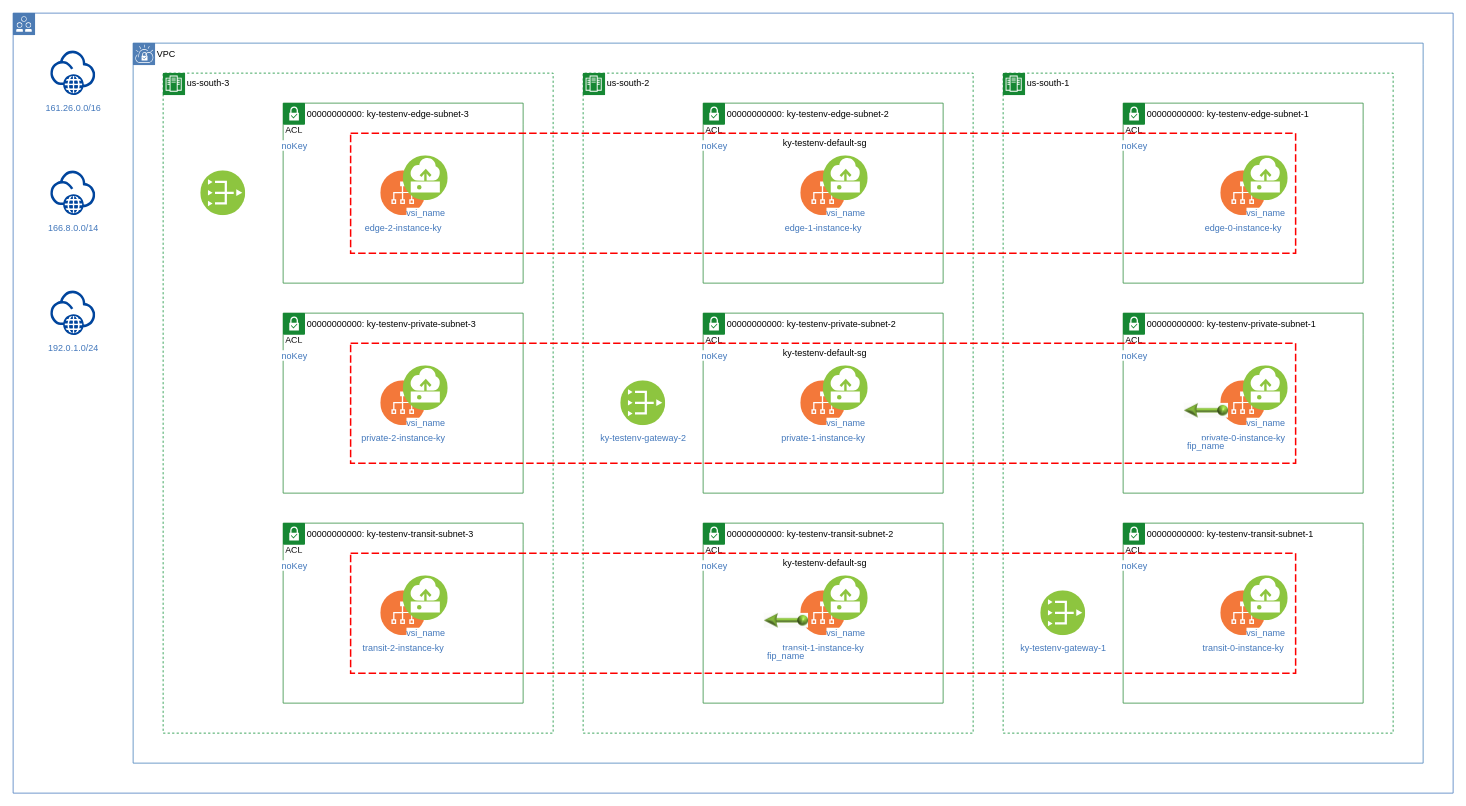
The diagram is 1466 pixels wide and 806 high, and some of its shapes have lost their labels. Each missing label, with the centre of its shape:
"ky-testenv-gateway-3" belongs at point 222,192.
"Public Network" belongs at point 24,24.
